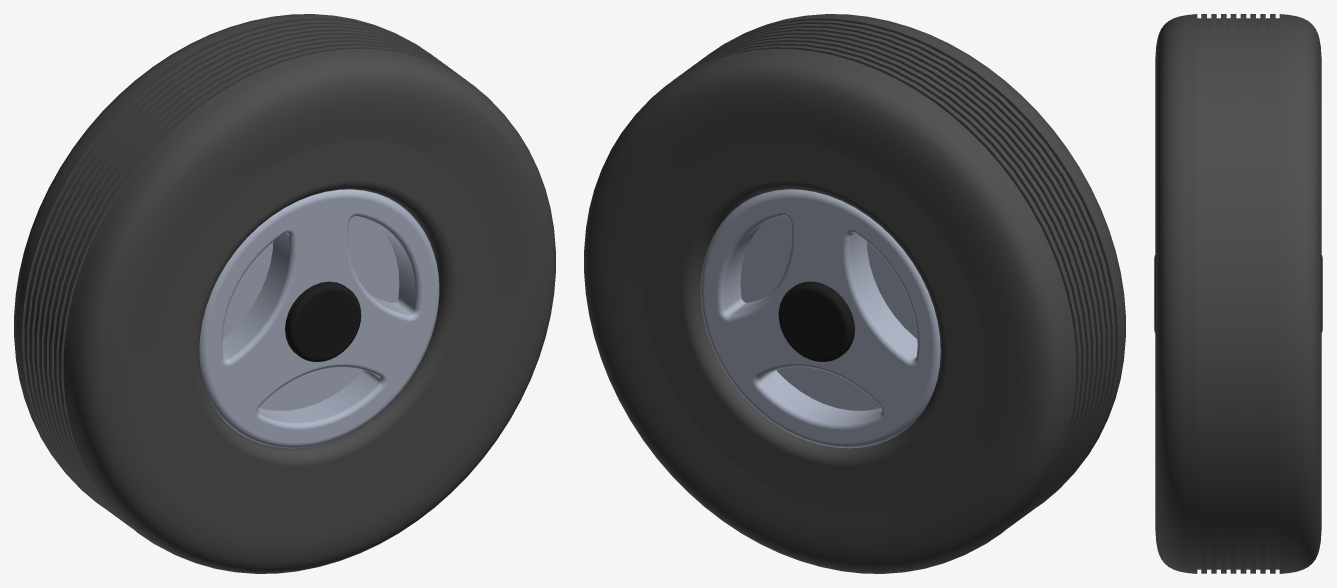
File: caster_wheels.dae
3 views of the same model, side by side, from view 1: azimuth 30°, elevation 25°; view 2: azimuth 150°, elevation 25°; view 3: azimuth 270°, elevation 25° (orthographic).
Parts seen in each view (by area): view 1: _3DGeom_52, _3DGeom_122, _3DGeom_53, _3DGeom_123; view 2: _3DGeom_52, _3DGeom_122, _3DGeom_53, _3DGeom_5; view 3: _3DGeom_52.
Part boxes in pixels (box(x1,y1,x2,y2)): _3DGeom_52: box(14, 14, 555, 573); _3DGeom_122: box(199, 189, 439, 448); _3DGeom_53: box(192, 180, 458, 466); _3DGeom_123: box(285, 281, 361, 361); _3DGeom_52: box(584, 14, 1125, 573); _3DGeom_122: box(700, 189, 940, 448); _3DGeom_53: box(681, 180, 947, 466); _3DGeom_5: box(778, 281, 854, 361); _3DGeom_52: box(1155, 14, 1321, 573).
Bounding box in the file's own units: 0.1999 × 0.06 × 0.2.
